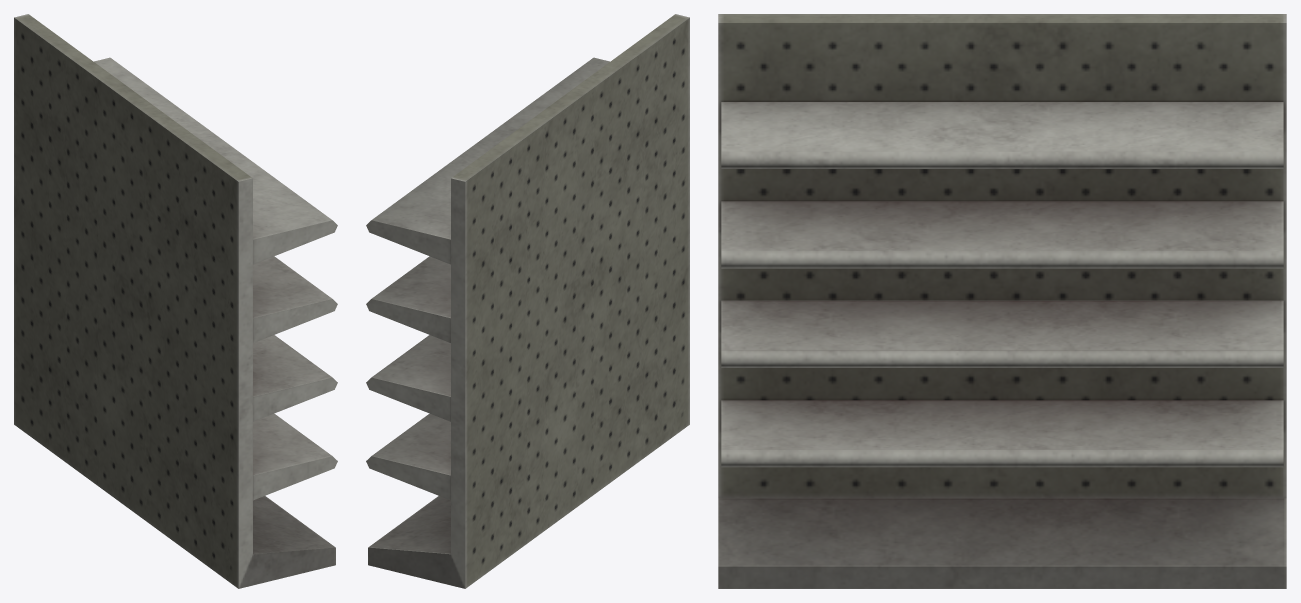
Rendered from ProductShelf.fbx.
3 views of the same model, side by side, from view 1: azimuth 30°, elevation 25°; view 2: azimuth 150°, elevation 25°; view 3: azimuth 270°, elevation 25° (orthographic). The views are drawn at different scales.
Parts seen in each view (by area): view 1: ProductShelf; view 2: ProductShelf; view 3: ProductShelf.
Part boxes in pixels (x1,y1,x2,y2): ProductShelf: (14,14,337,588); ProductShelf: (366,14,689,588); ProductShelf: (718,14,1286,588).
Bounding box in the file's own units: 52.17 × 202 × 202.
